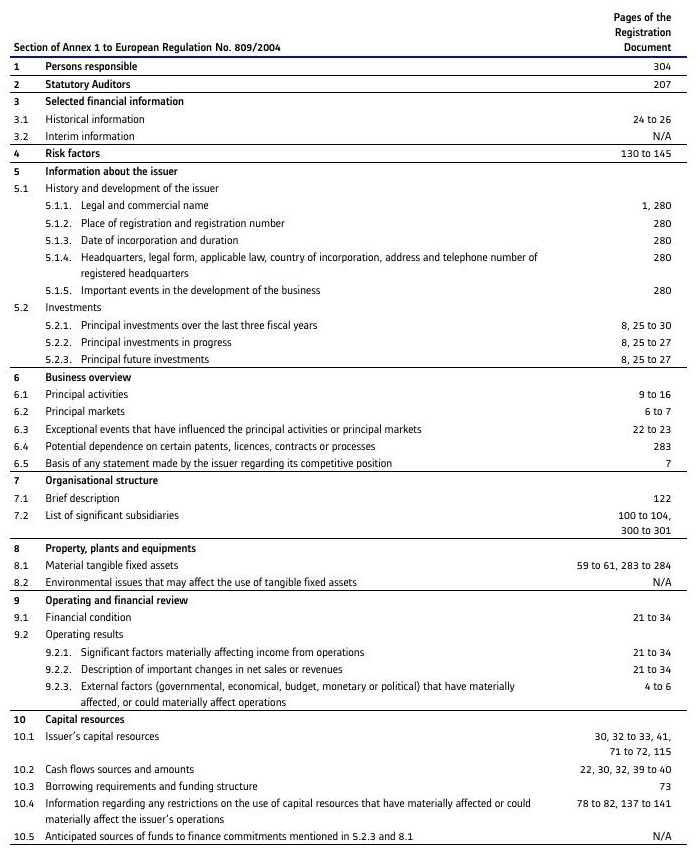table: (0, 0, 698, 855)
